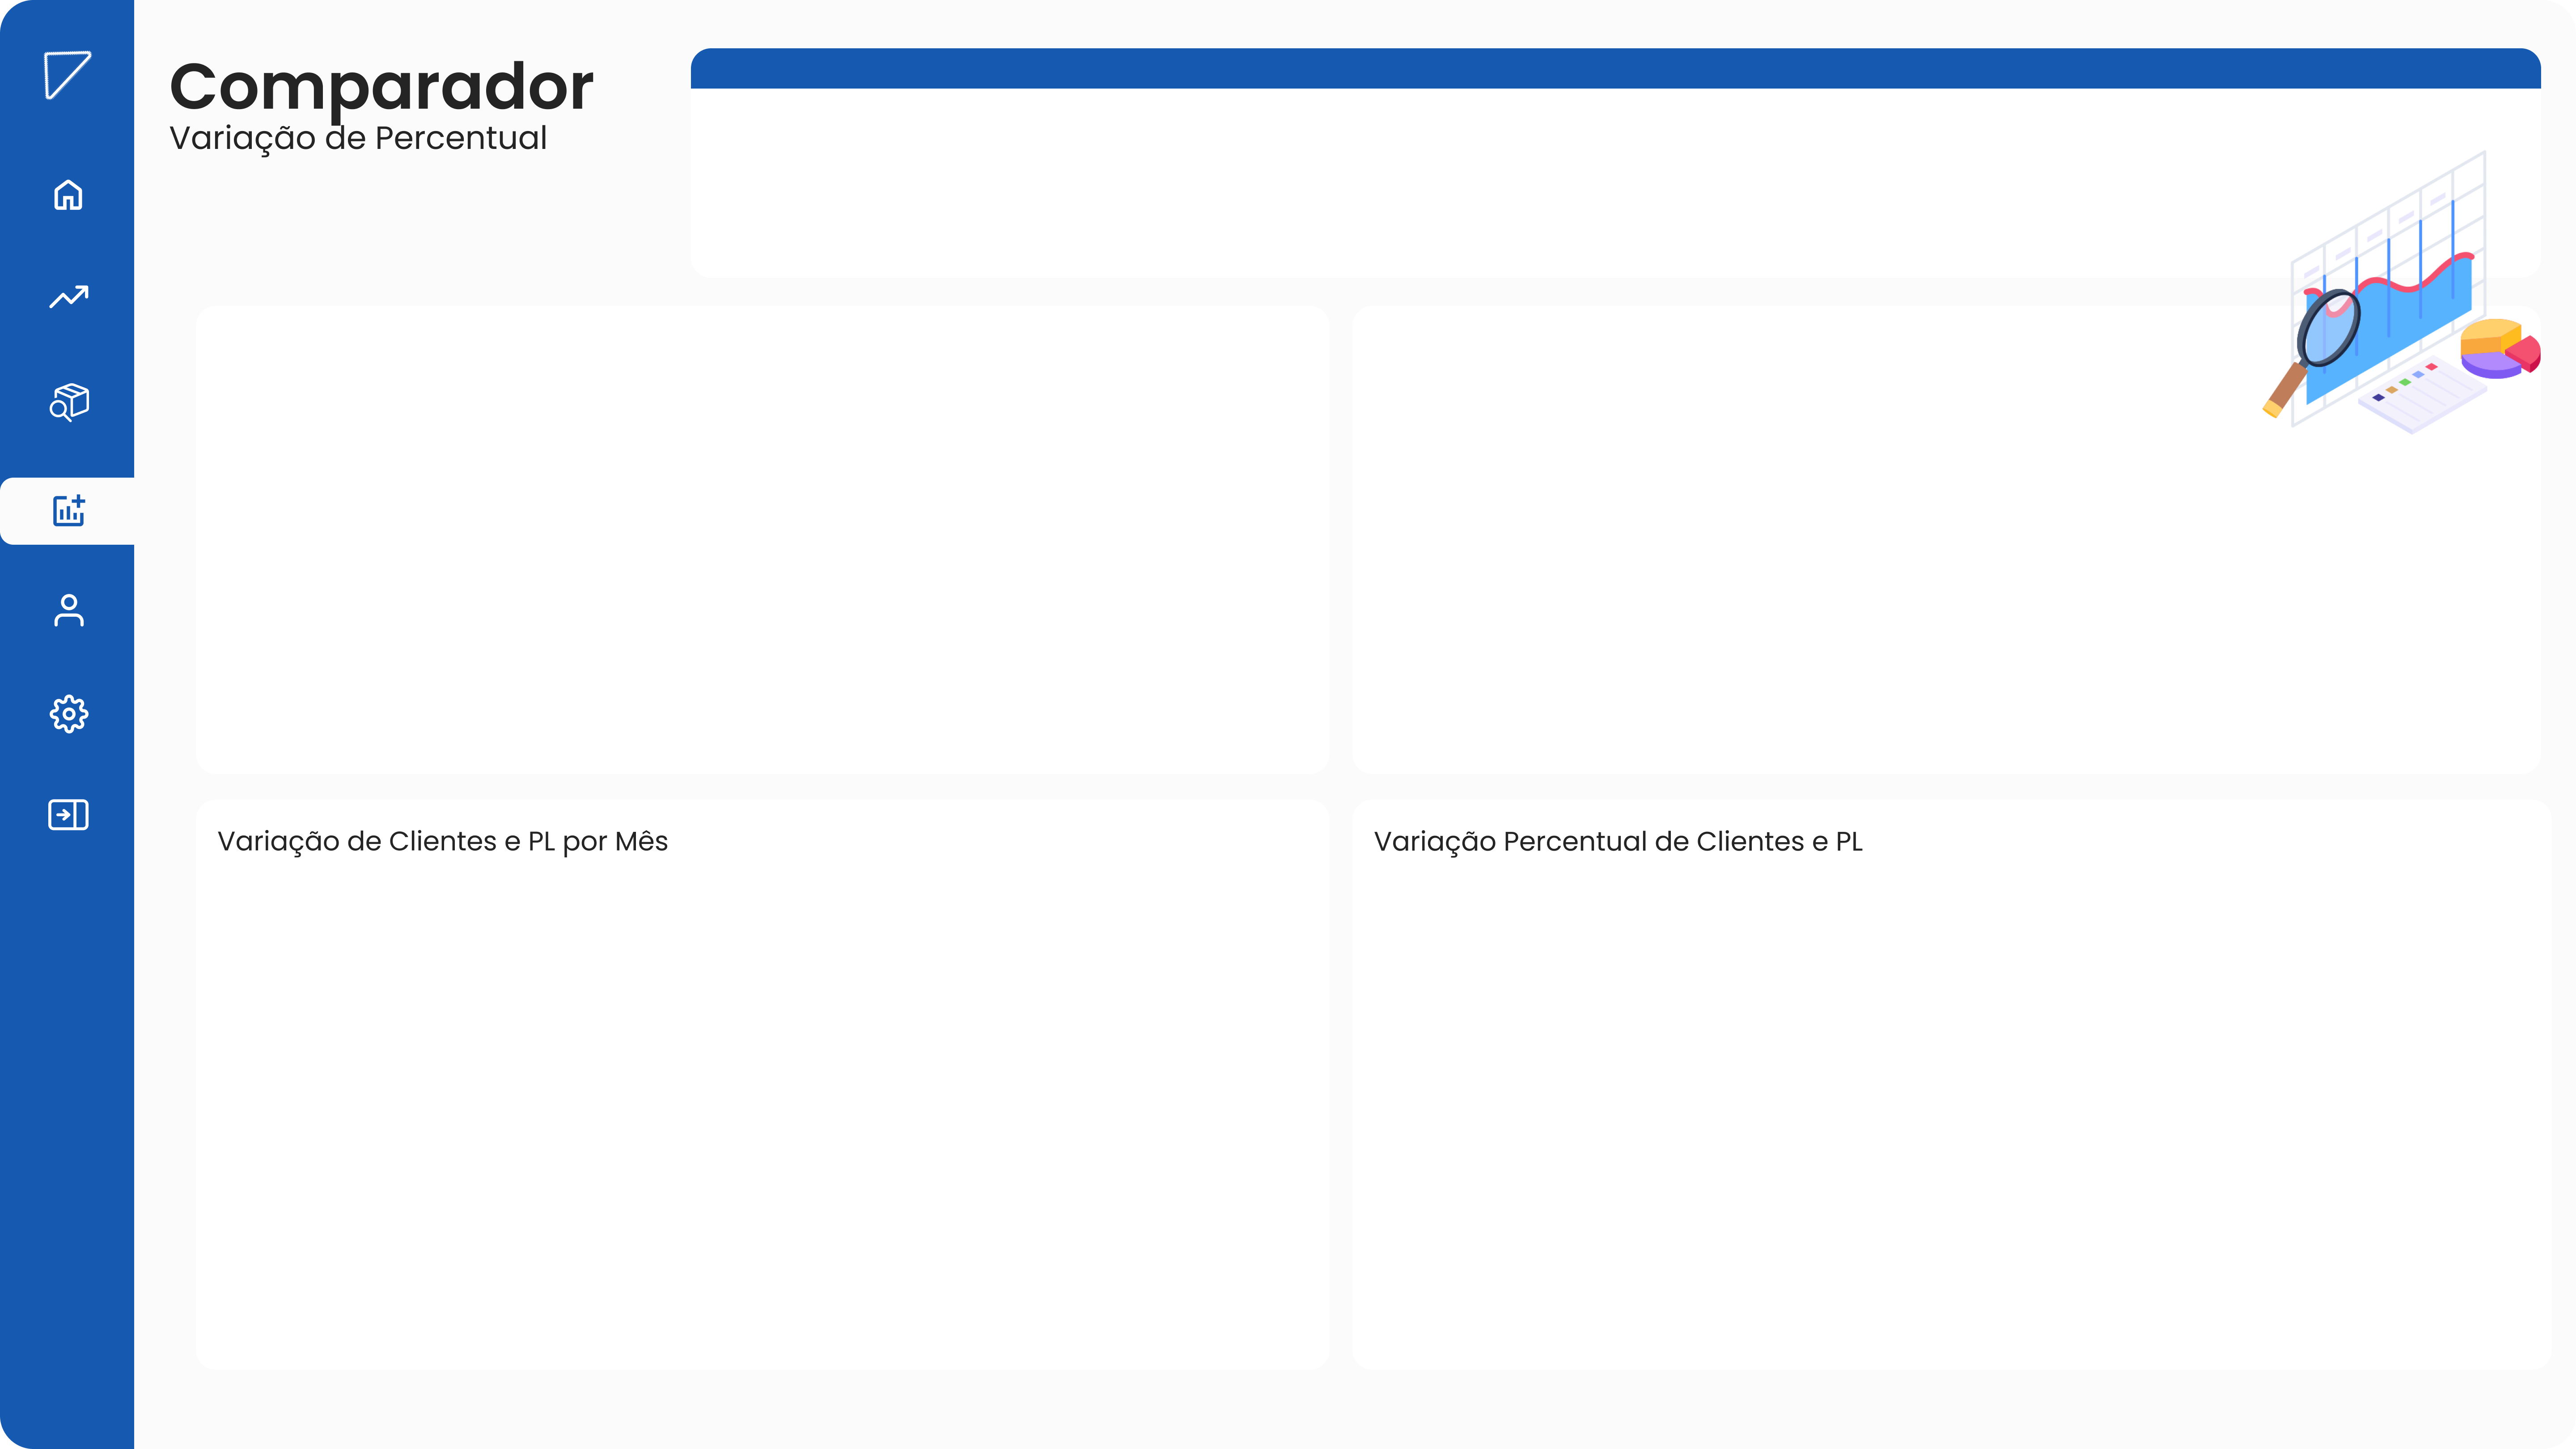

The page's visual inventory and layout, read from the dashboard file:
{"tool":"powerbi","page":{"name":"Comparador","canvas":[1280,720],"ordinal":2},"visuals":[{"type":"slicer","fields":{"Values":["PL_Combinado.Data"]},"box":[360,58,219,74],"z":0},{"type":"pivotTable","fields":{"Values":["Clientes.Quantidade de Clientes","PL_Combinado.PL Total","PL_Combinado.Variacao_Clientes","PL_Combinado.Variacao_PL"],"Rows":["PL_Combinado.Tipo de Produto"]},"box":[106,178,550,198],"z":1000},{"type":"pythonVisual","fields":{"Values":["Clientes.Quantidade de Clientes","PL_Combinado.PL Total","PL_Combinado.Data.Variation.Hierarquia de datas.Ano","PL_Combinado.Data.Variation.Hierarquia de datas.Trimestre","PL_Combinado.Data.Variation.Hierarquia de datas.Mês","PL_Combinado.Data.Variation.Hierarquia de datas.Dia"]},"box":[1488.3,0,446.1,302.2],"z":2000},{"type":"pivotTable","fields":{"Values":["Clientes.Quantidade de Clientes","PL_Combinado.PL Total","PL_Combinado.Variacao_Clientes","PL_Combinado.Variacao_PL"],"Rows":["Clientes.Assessor"]},"box":[679,211,509,165],"z":3000},{"type":"slicer","fields":{"Values":["Clientes.Assessor"]},"box":[883,55,188,65],"z":4000},{"type":"slicer","fields":{"Values":["PL_Combinado.Tipo de Produto"]},"box":[615,57,247,62],"z":5000},{"type":"donutChart","fields":{"Y":["PL_Combinado.Variacao_Clientes","PL_Combinado.Variacao_PL"]},"box":[692,437,550,230],"z":6000},{"type":"lineChart","fields":{"Category":["PL_Combinado.Data.Variation.Hierarquia de datas.Ano","PL_Combinado.Data.Variation.Hierarquia de datas.Trimestre","PL_Combinado.Data.Variation.Hierarquia de datas.Mês","PL_Combinado.Data.Variation.Hierarquia de datas.Dia"],"Y":["PL_Combinado.Variacao_Clientes","PL_Combinado.Variacao_PL"]},"box":[106,437,550,247],"z":7000}]}

Visuals, with their boxes on the page's 1280x720 design canvas (x1, y1, x2, y2). These are canvas units, not pixel positions in the 2576x1449 screenshot, which may show the page scaled, cropped or inside an application window:
slicer - PL_Combinado.Data: {"left": 360, "top": 58, "right": 579, "bottom": 132}
pivotTable - Clientes.Quantidade de Clientes x PL_Combinado.PL Total: {"left": 106, "top": 178, "right": 656, "bottom": 376}
pythonVisual - Clientes.Quantidade de Clientes x PL_Combinado.PL Total: {"left": 1488, "top": 0, "right": 1934, "bottom": 302}
pivotTable - Clientes.Quantidade de Clientes x PL_Combinado.PL Total: {"left": 679, "top": 211, "right": 1188, "bottom": 376}
slicer - Clientes.Assessor: {"left": 883, "top": 55, "right": 1071, "bottom": 120}
slicer - PL_Combinado.Tipo de Produto: {"left": 615, "top": 57, "right": 862, "bottom": 119}
donutChart - PL_Combinado.Variacao_Clientes x PL_Combinado.Variacao_PL: {"left": 692, "top": 437, "right": 1242, "bottom": 667}
lineChart - PL_Combinado.Data.Variation.Hierarquia de datas.Ano x PL_Combinado.Data.Variation.Hierarquia de datas.Trimestre: {"left": 106, "top": 437, "right": 656, "bottom": 684}
